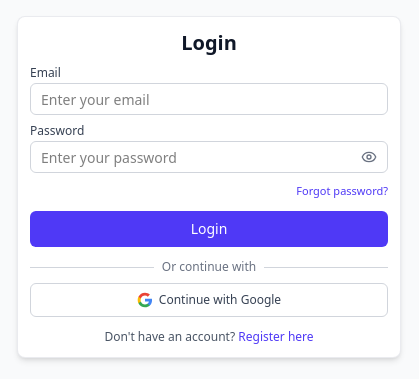
Scenario: Login Component › OTP verification flow › should return to credentials when Back to sign in is clicked
The width and height of the screenshot is (419, 379).
Type "back@example.com" into the field labelled "Email". click: [209, 99]
box: [30,83,388,115]
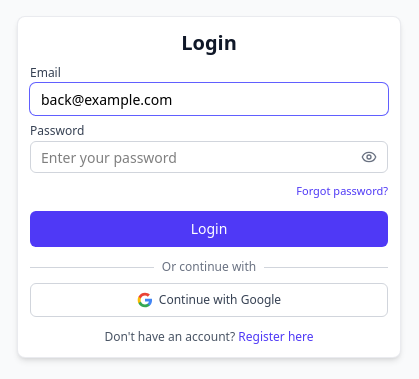
Type "pw" into the password field labelled "Password". click: [209, 157]
box: [30,141,388,173]
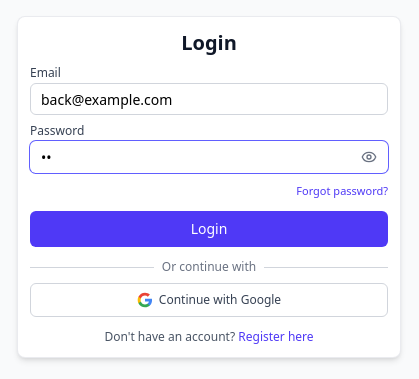
Click the button "Login". click: [209, 229]
box: [30,211,388,247]
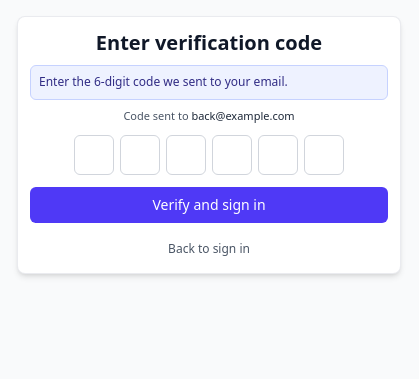
Result: the button "Back to sign in" is shown
Click the button "Back to sign in". click: [209, 249]
box: [30,237,388,261]
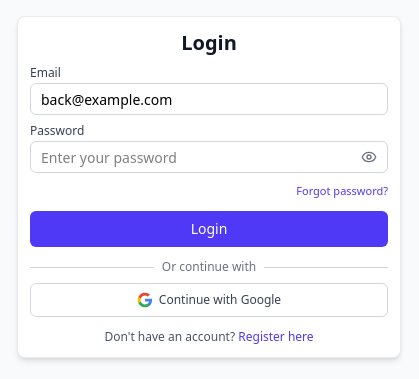
Result: the heading "Login" is shown at [181,29,237,56]
Result: the password field labelled "Password" is shown at [30,141,388,173]
